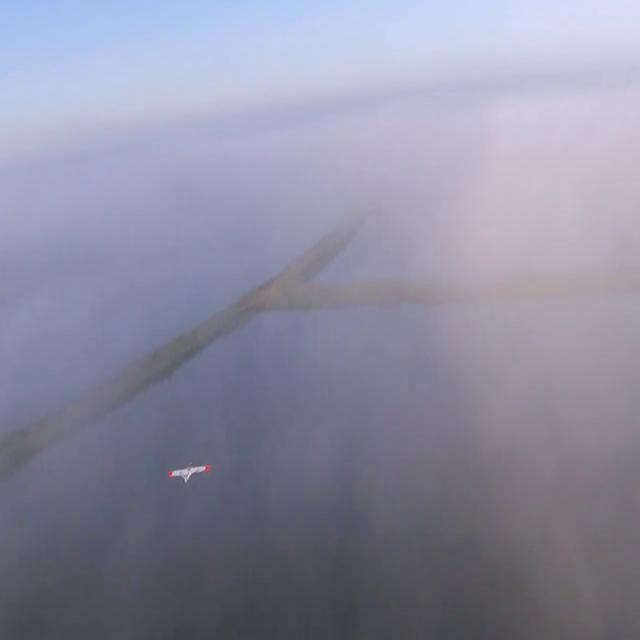iha: (168, 462, 212, 488)
